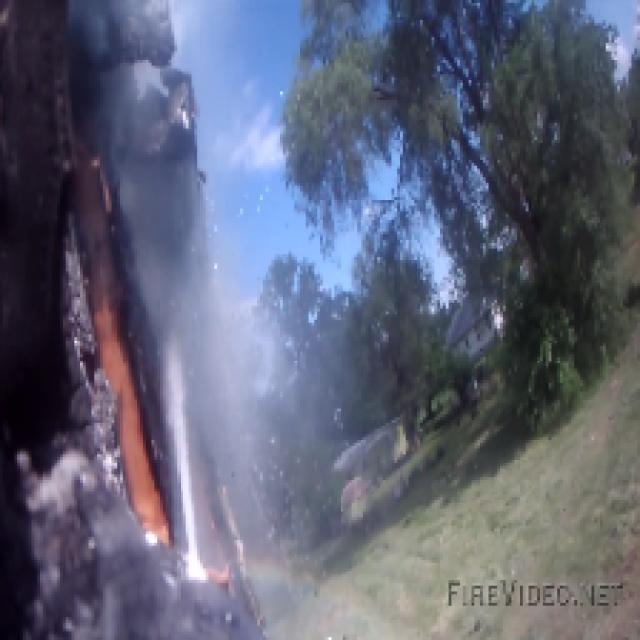Smoke: (106, 8, 217, 212), (162, 252, 252, 432)
